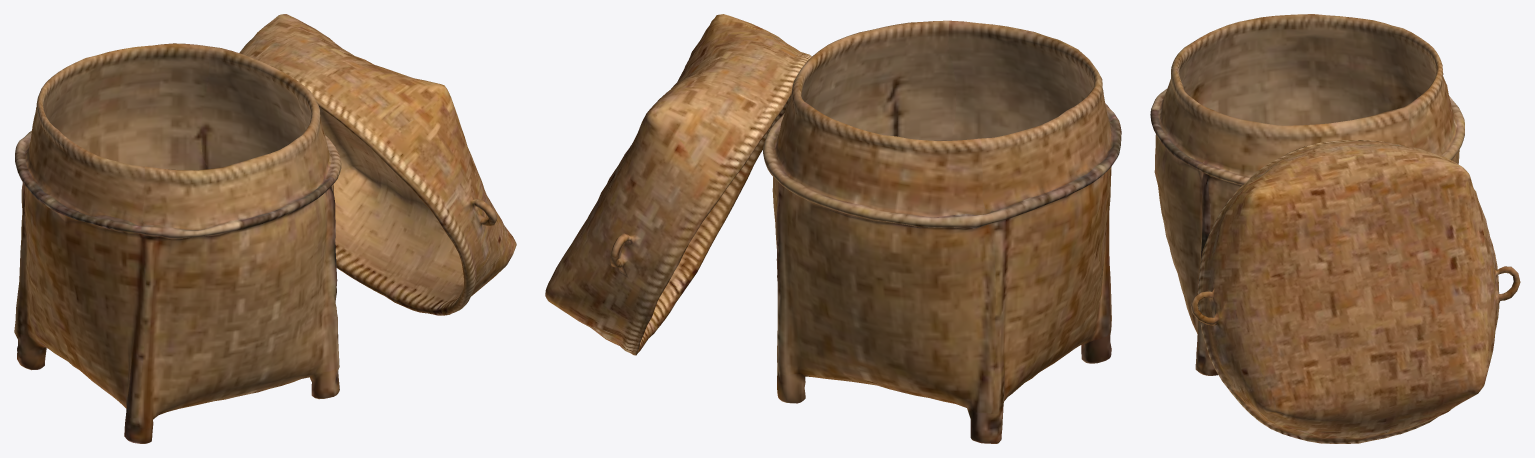
Rendered from wicker_basket_02.glb.
3 renders of one model, left to right at view 1: azimuth 30°, elevation 25°; view 2: azimuth 150°, elevation 25°; view 3: azimuth 270°, elevation 25°, orthographic. The views are drawn at different scales.
Visible parts, largest first — view 1: wicker_basket_02_base; view 2: wicker_basket_02_base; view 3: wicker_basket_02_base.
Boxes of the visible parts, box(x1,y1,x2,y2) form: wicker_basket_02_base: box(14, 14, 516, 443); wicker_basket_02_base: box(545, 14, 1121, 443); wicker_basket_02_base: box(1150, 14, 1520, 443).
Size of the model in its own units: 0.3469 by 0.2005 by 0.2545.
Materials: 1 (1 with a texture image).
